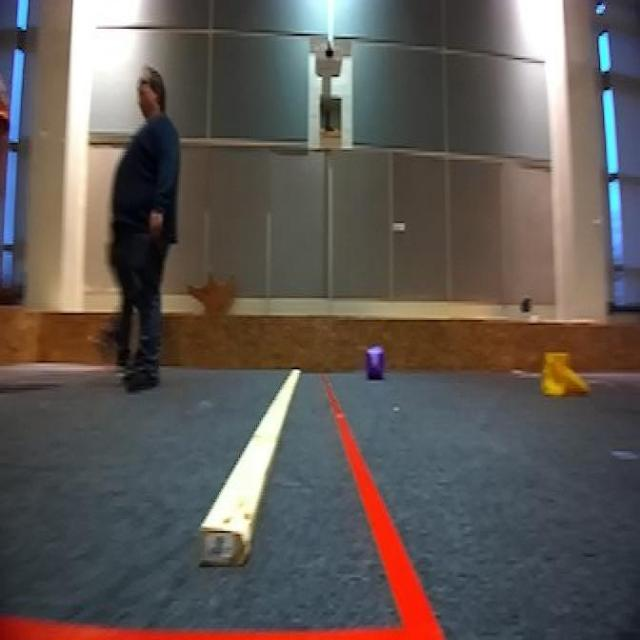frc_cone: (542, 347, 587, 397)
frc_cube: (365, 346, 385, 381)
